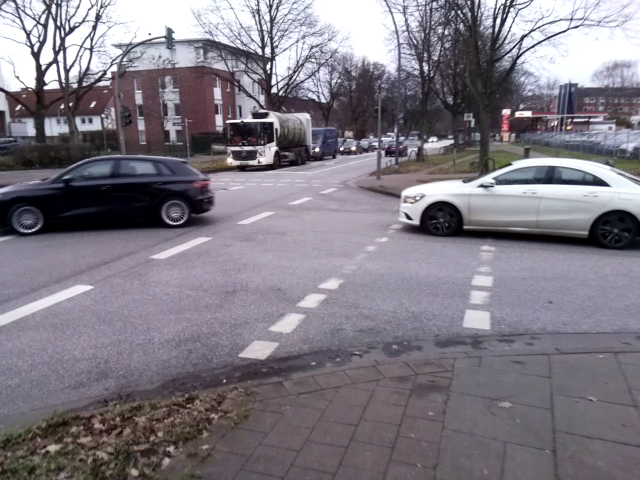car: (387, 154, 640, 251)
